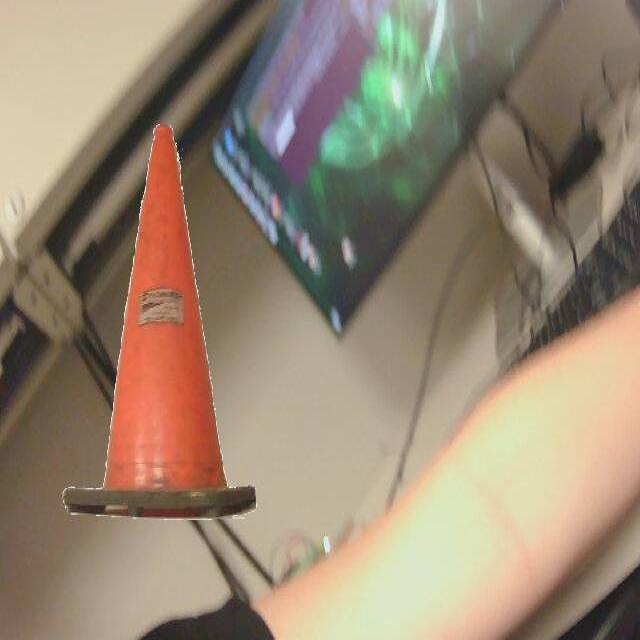traffic cone: (57, 113, 262, 532)
